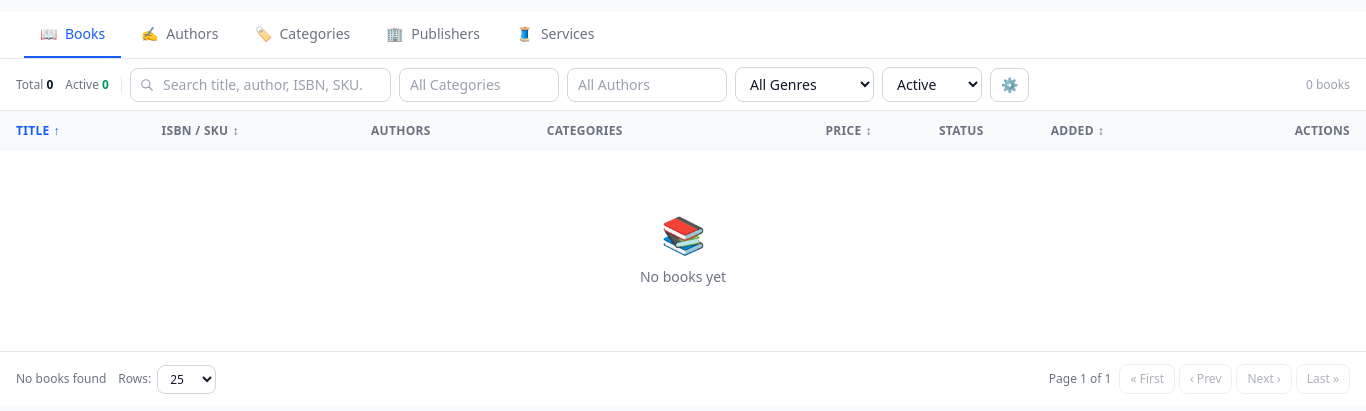
Catalog reference tabs: who may change them › offers a Purchasor no changes, which the API refuses (was: Add, Edit, Archive and Delete)
Click the button "✍️ Authors" at (180, 35), box [125, 12, 234, 58]
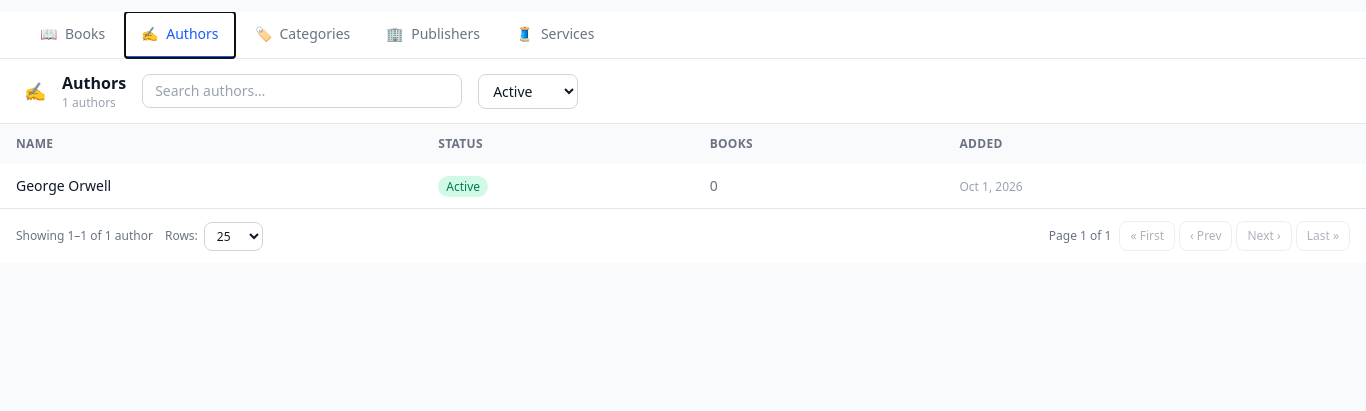
Check: the text "George Orwell" is shown, box [16, 176, 111, 195]
